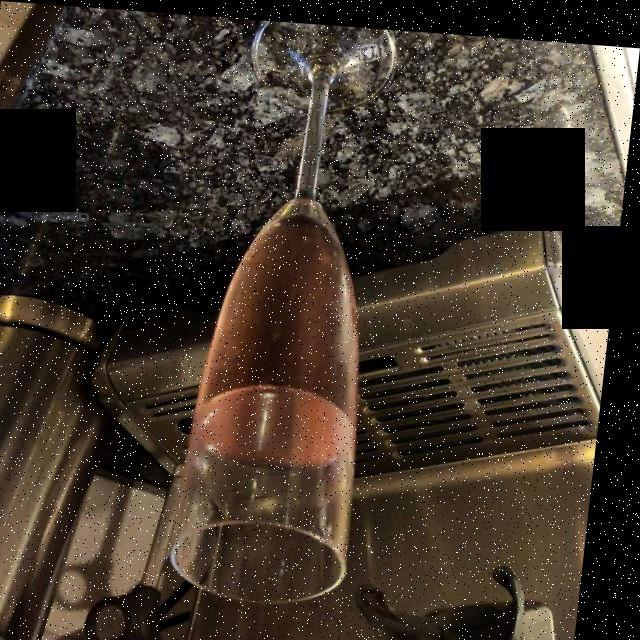wine: (204, 213, 365, 457)
